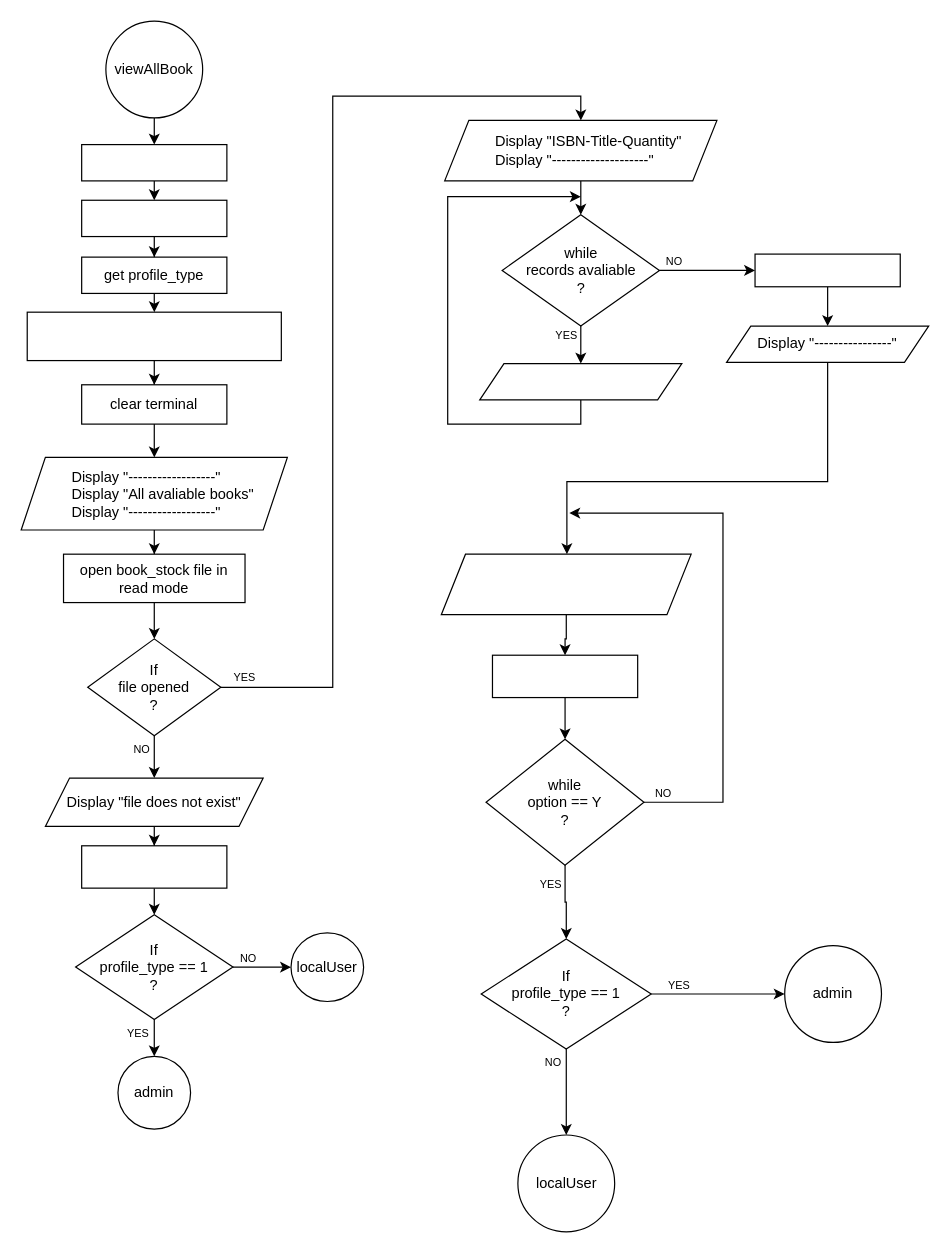
The diagram is 950 pixels wide and 1254 high, and some of its shapes have lost their labels. Each missing label, with the centre of its shape:
char next char view_all_book[100]: (x=153, y=336)
close file: (x=827, y=270)
Display "Enter Y to return: ": (x=565, y=584)
Display view_all_book: (x=580, y=381)
get option: (x=564, y=676)
int profile_type: (x=153, y=218)
load header files: (x=153, y=162)
wait 1.5 seconds: (x=153, y=866)
